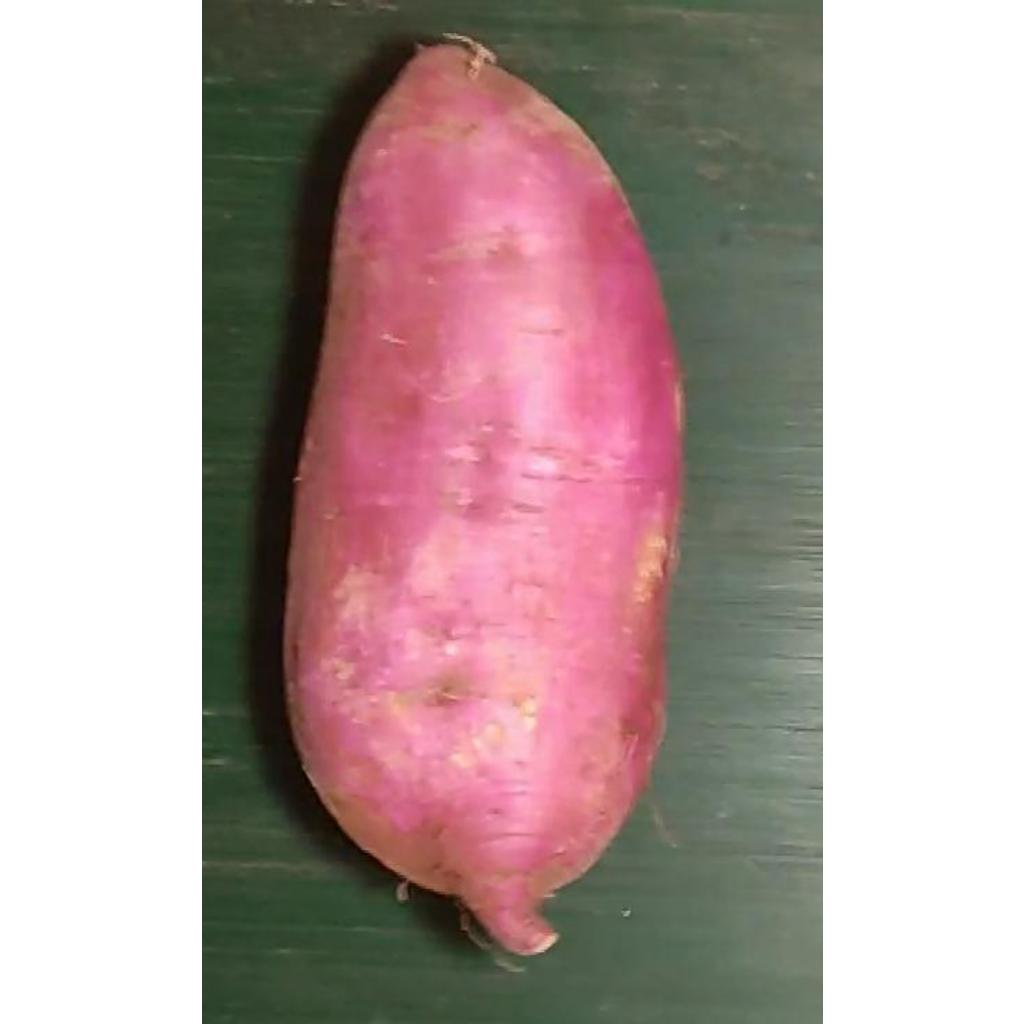Sweet Potato: (280, 39, 683, 962)
